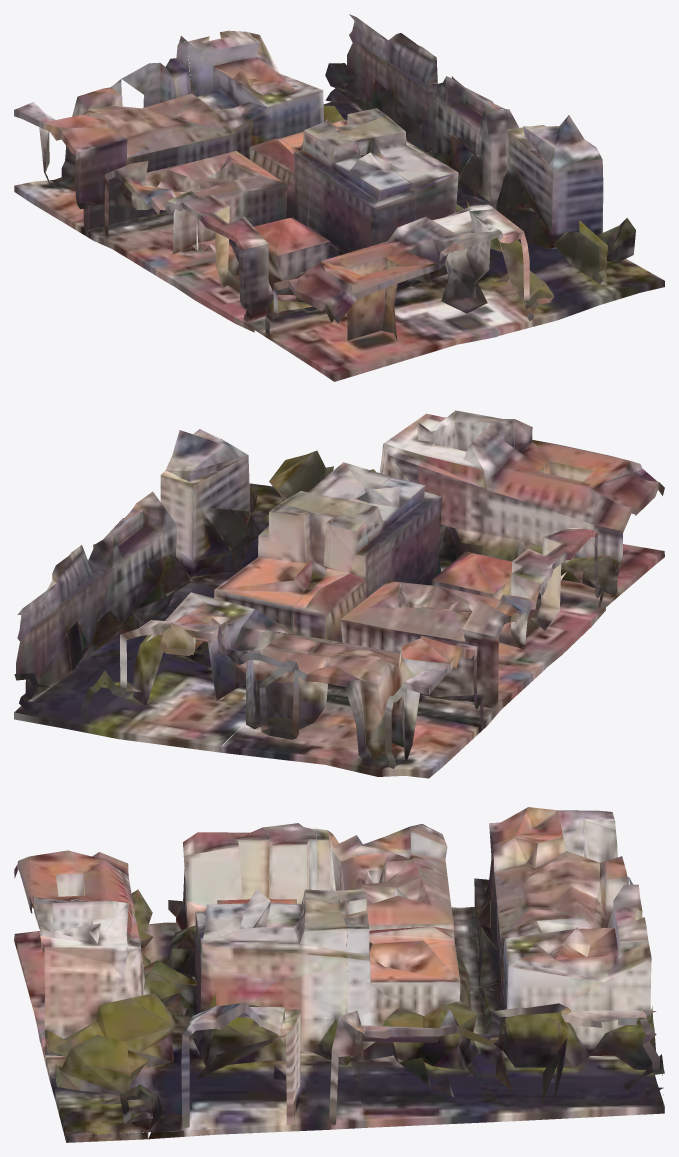
The picture shows the model from 3 angles, top to bottom: view 1: azimuth 30°, elevation 25°; view 2: azimuth 150°, elevation 25°; view 3: azimuth 270°, elevation 25°; orthographic projection. The views are drawn at different scales.
Parts seen in each view (by area): view 1: Mesh_0; view 2: Mesh_0; view 3: Mesh_0.
Boxes of the visible parts, left/top/right/bottom form: Mesh_0: left=14, top=14, right=664, bottom=381; Mesh_0: left=14, top=410, right=664, bottom=778; Mesh_0: left=14, top=807, right=664, bottom=1142.
Size of the model in its own units: 133 by 37.6 by 165.
Materials: 1 (1 with a texture image).
